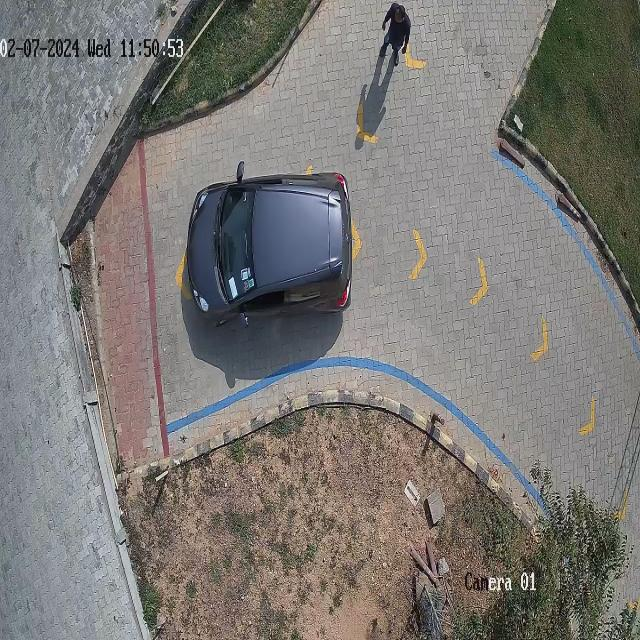car: (185, 171, 353, 326)
